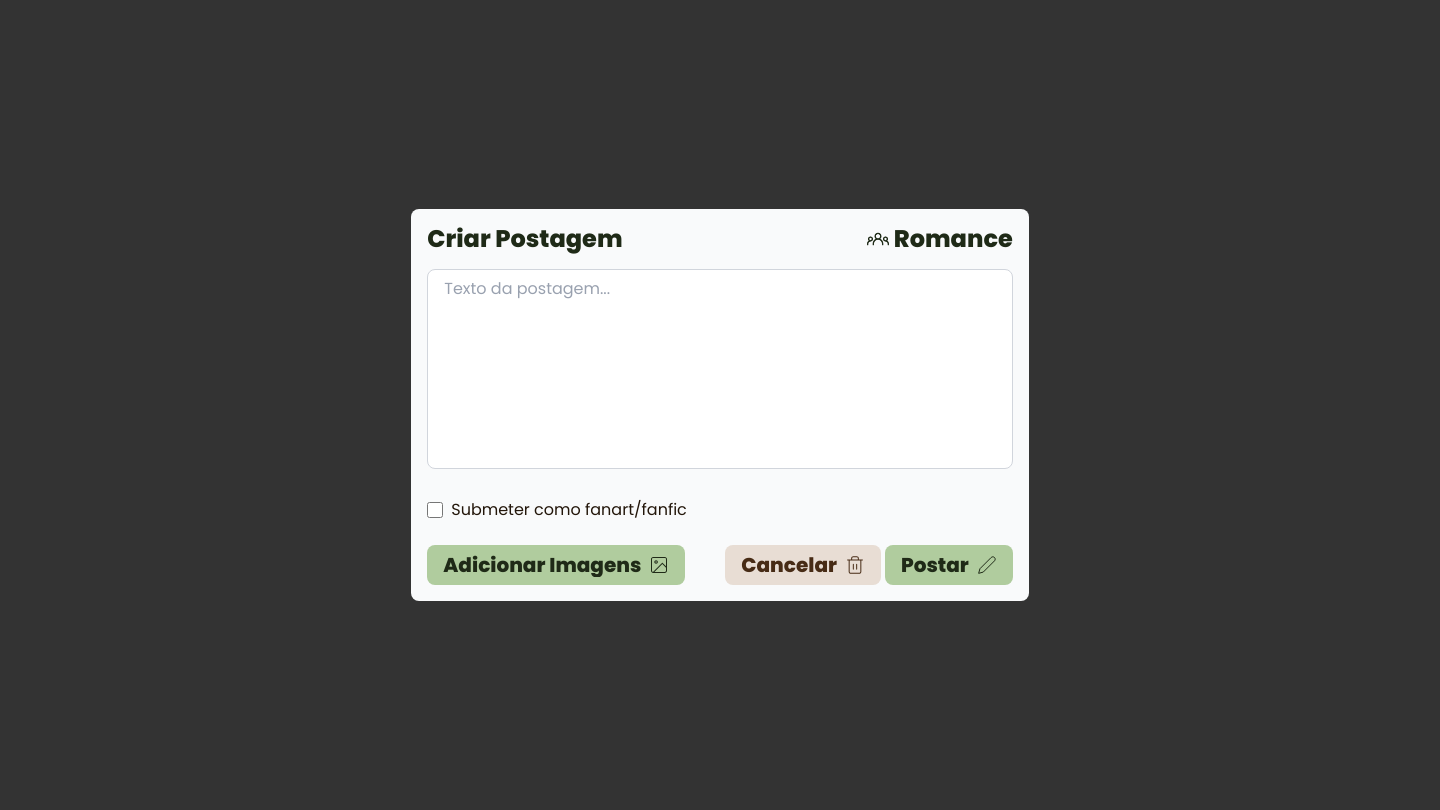
Test: CreatePostModal › Validação › deve mostrar erro quando a API falha
The image size is (1440, 810).
Type "Conteúdo válido" into the text box with placeholder "Texto da postagem...". click: (720, 369)
box: x1=427 y1=269 x2=1013 y2=469
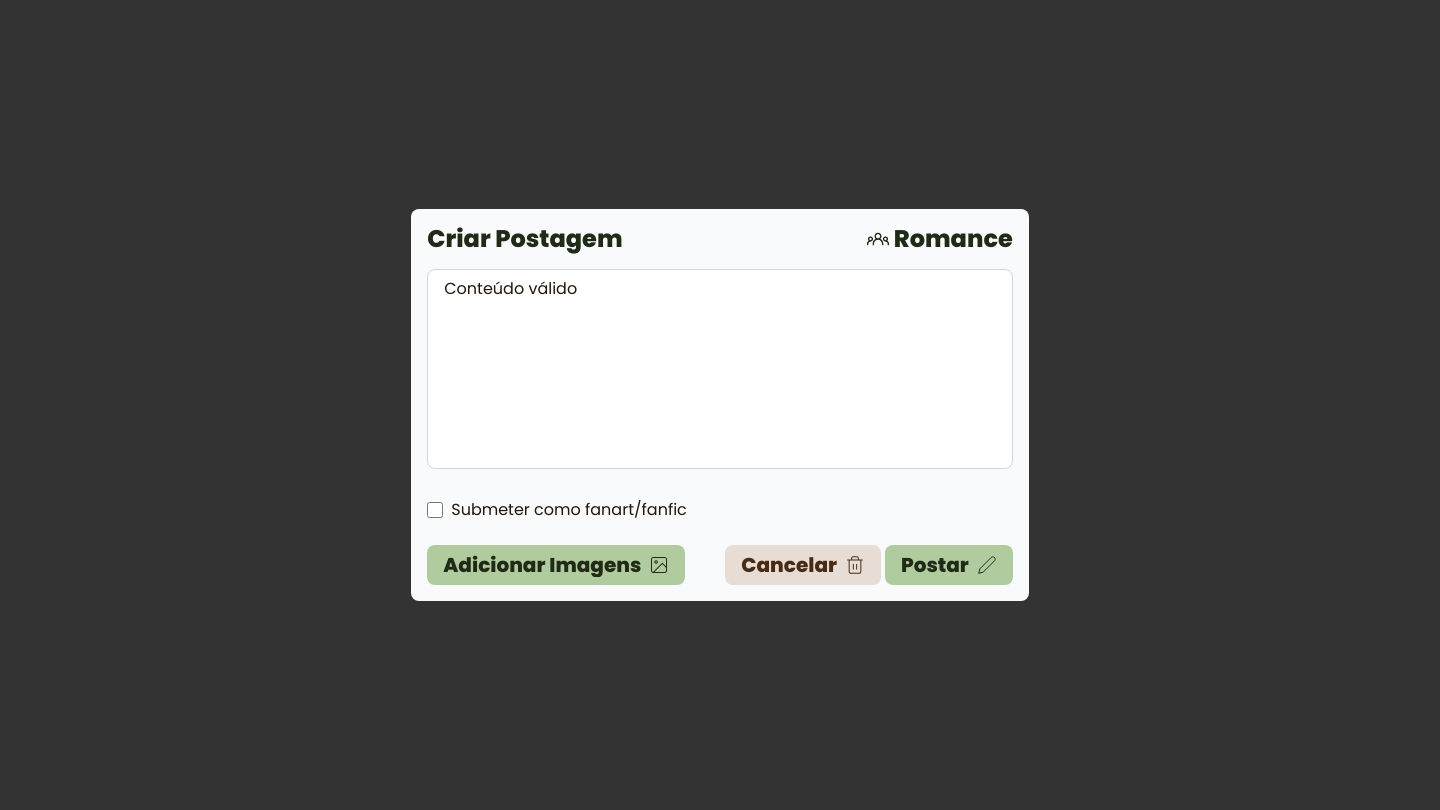
Click the button "Postar". click: (949, 565)
box: x1=885 y1=545 x2=1013 y2=585
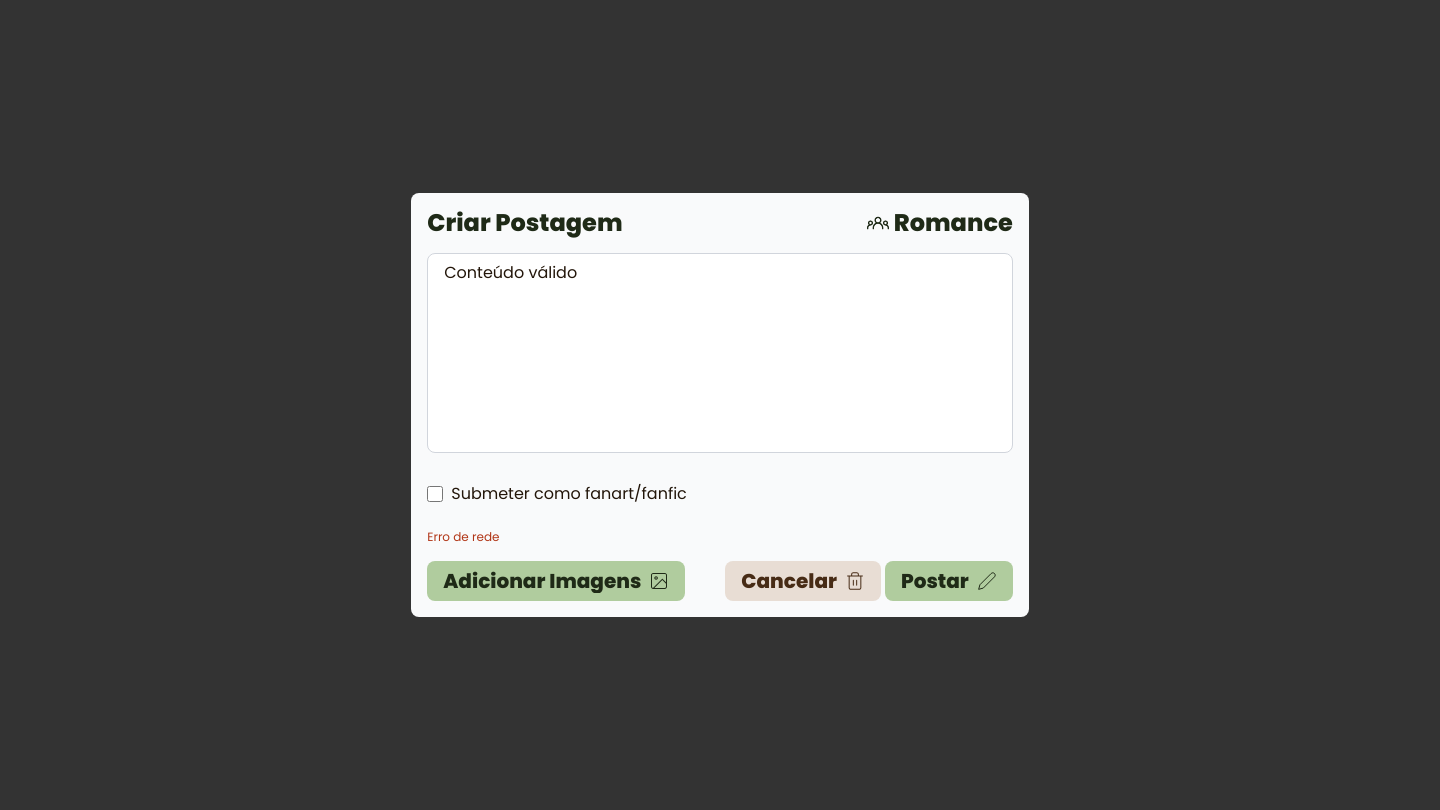
Now the text "Erro de rede" is shown, box x1=427 y1=528 x2=500 y2=545
